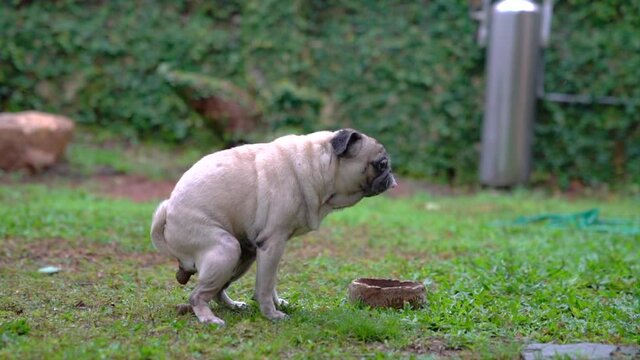dog_pooping: (145, 124, 405, 328)
